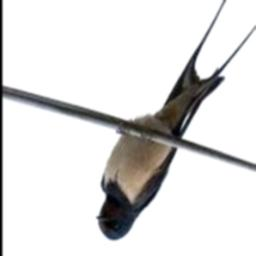Swallow: (96, 0, 256, 241)
